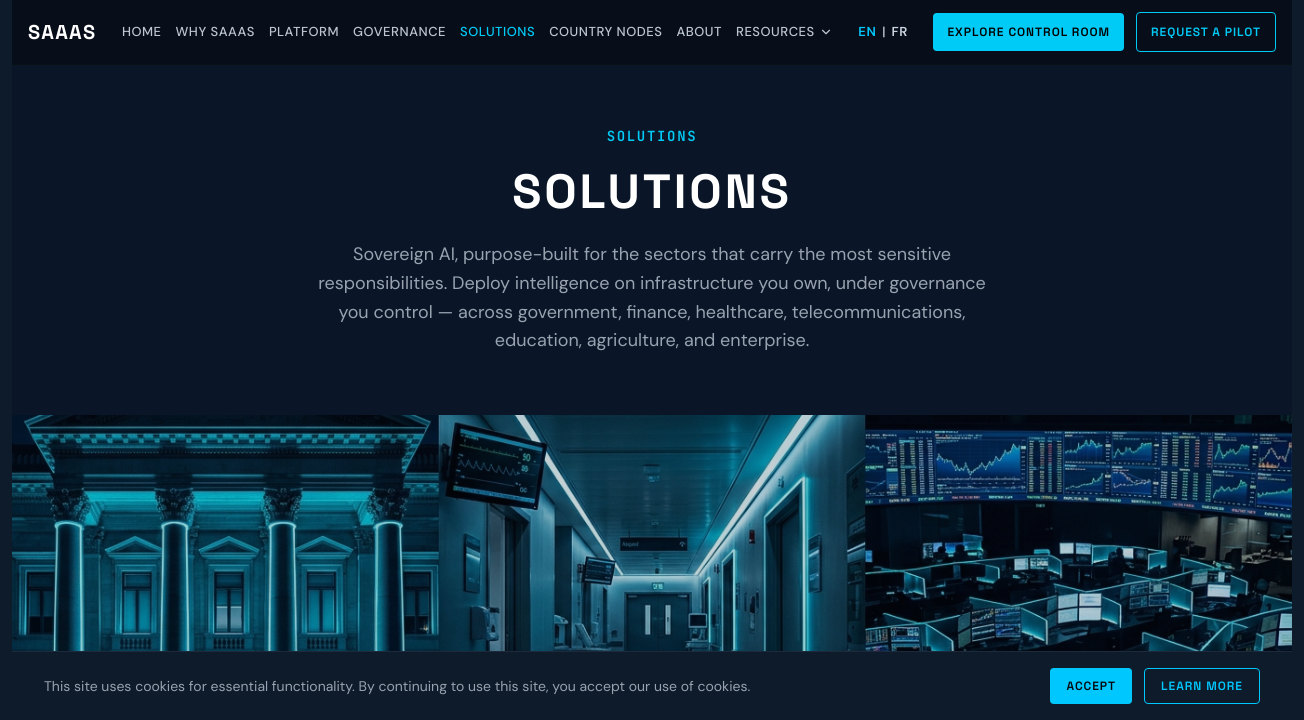
Scenario: Solutions page content contract › renders the seven sector solution cards with their sector labels
Click the link "SOLUTIONS" at (498, 32), box [460,22,535,42]
(page scrolled)
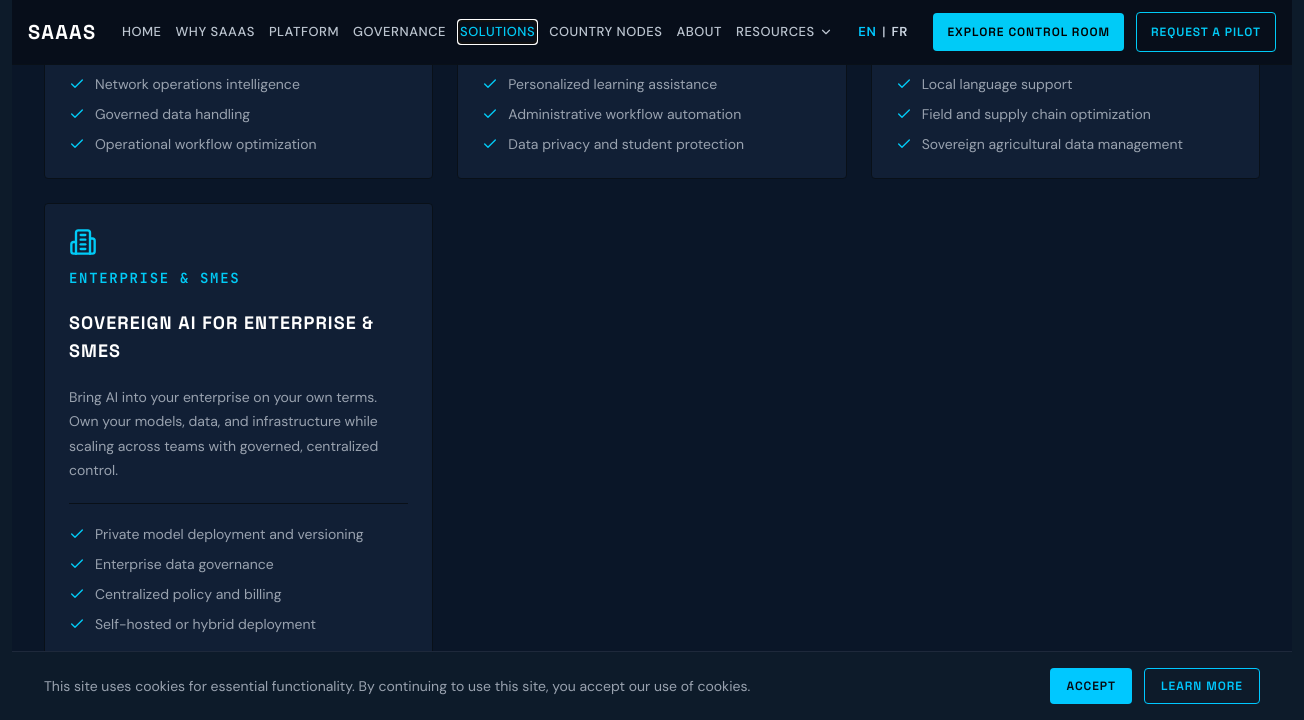
Check: the heading "Sovereign AI for Enterprise & SMEs" is shown, box [69,309,408,365]
